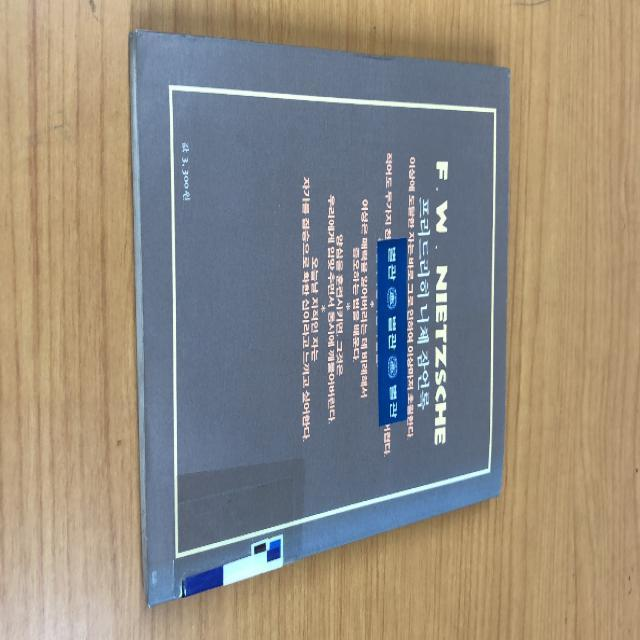Wornout: (507, 69, 514, 83)
